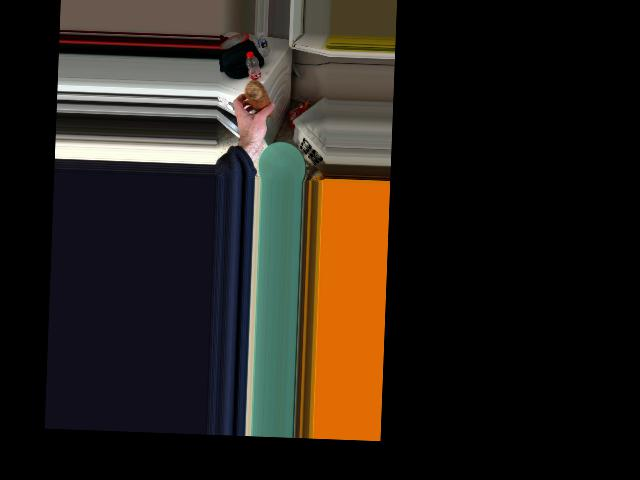sweet_potato: (242, 82, 276, 122)
